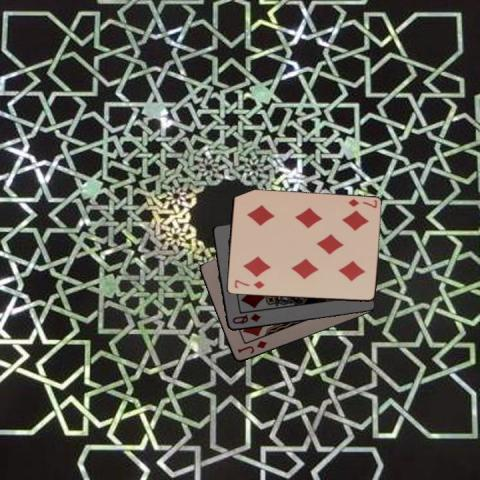7d: (232, 277, 266, 291), (345, 196, 378, 209)
Jd: (235, 338, 268, 355)
Qd: (229, 311, 263, 326)
